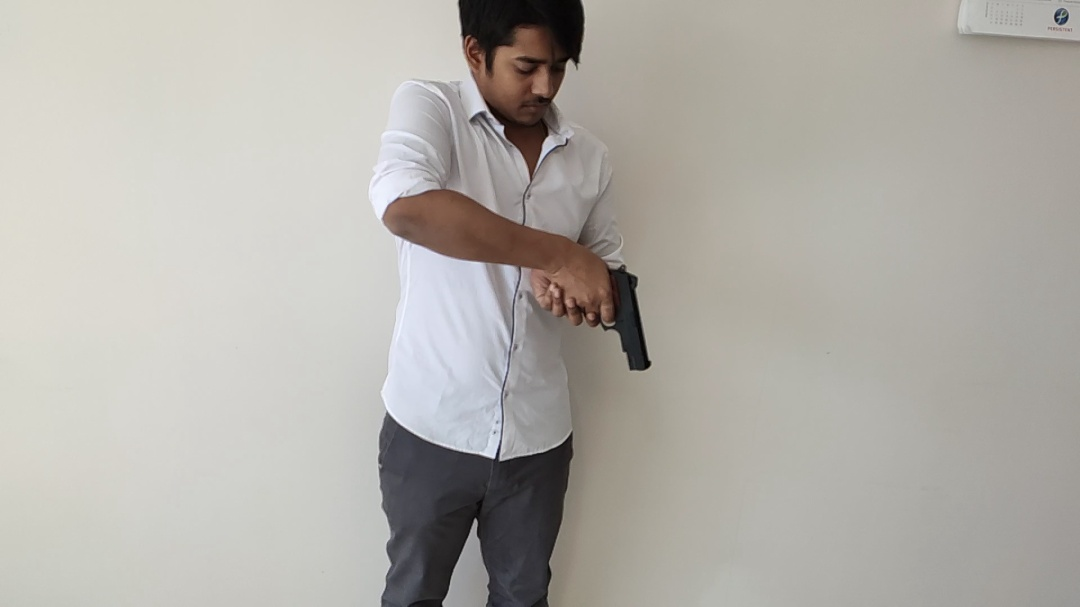gun: (277, 62, 821, 557)
